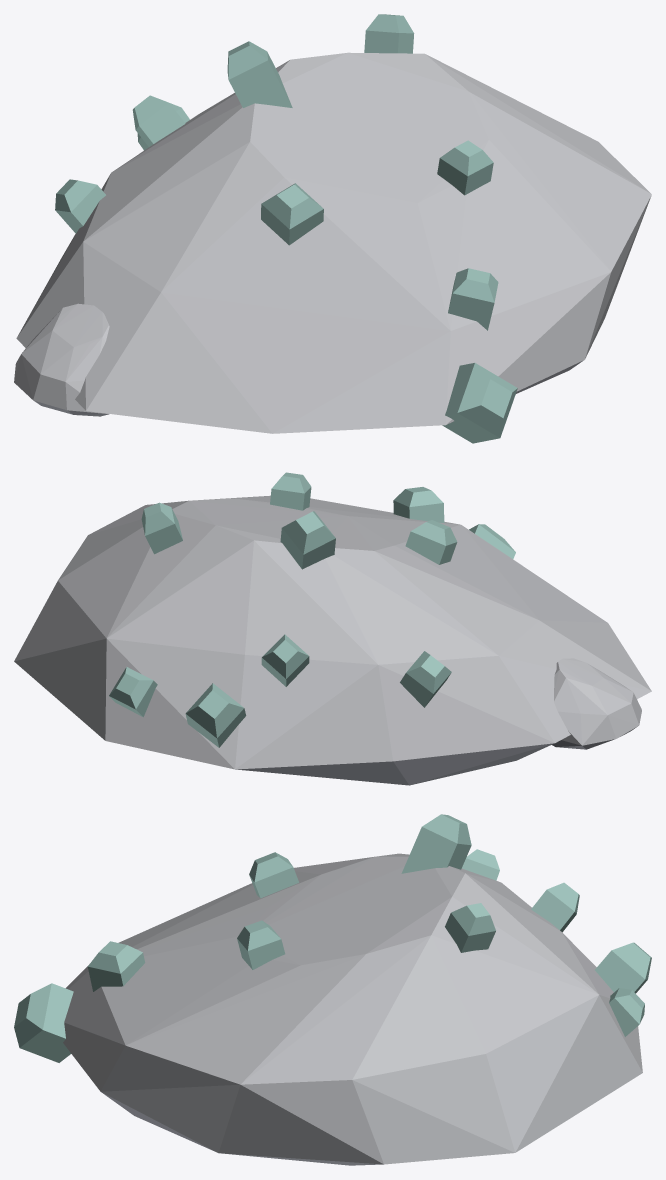
Rendered from SM_MR_Crystal_Small_04.fbx.
3 renders of one model, top to bottom at view 1: azimuth 30°, elevation 25°; view 2: azimuth 150°, elevation 25°; view 3: azimuth 270°, elevation 25°, orthographic. The views are drawn at different scales.
Visible parts, largest first — view 1: SM_MR_Crystal_Small_04; view 2: SM_MR_Crystal_Small_04; view 3: SM_MR_Crystal_Small_04.
Part boxes in pixels (x1=…): SM_MR_Crystal_Small_04: x1=14, y1=14, x2=651, y2=443; SM_MR_Crystal_Small_04: x1=14, y1=472, x2=651, y2=785; SM_MR_Crystal_Small_04: x1=14, y1=814, x2=651, y2=1165.
Bounding box in the file's own units: 0.35 × 0.3345 × 0.1386.
